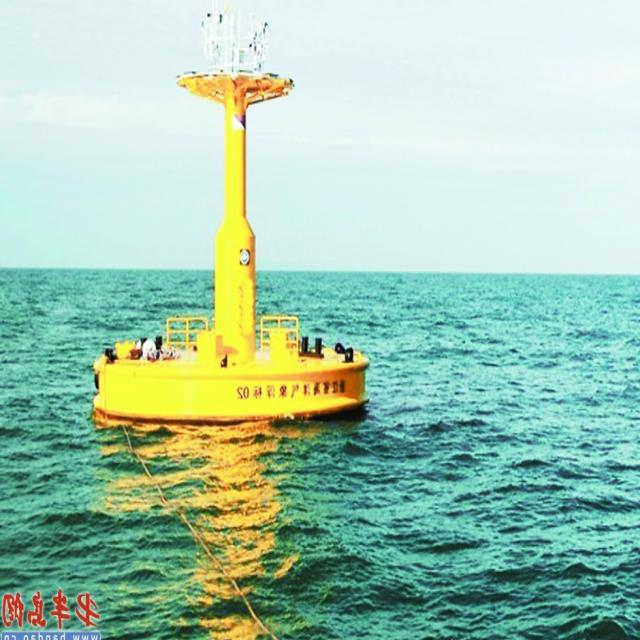buoy: (94, 0, 373, 423)
